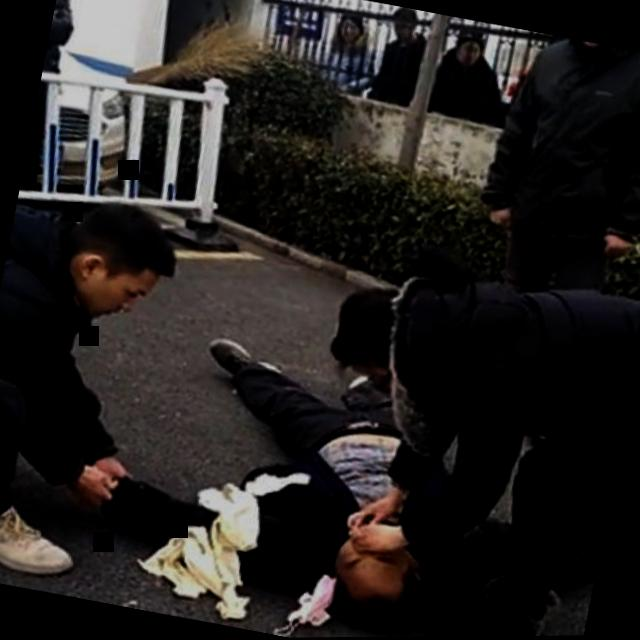Fall-Detected: (84, 306, 492, 640)
